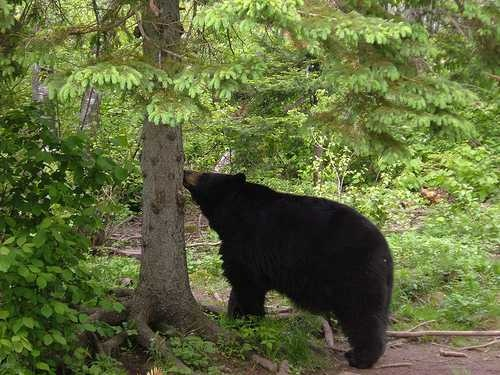bear: (180, 146, 308, 274)
